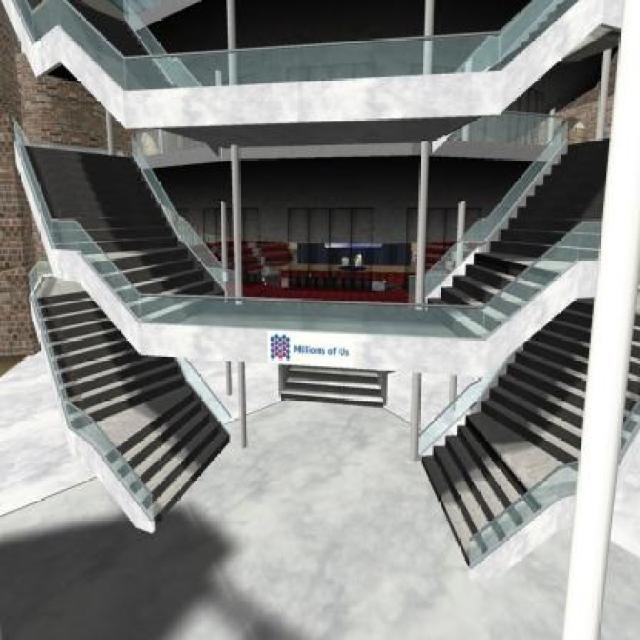stair: (420, 300, 640, 574), (32, 297, 231, 534), (14, 142, 226, 326), (426, 140, 611, 345), (484, 0, 582, 74), (282, 362, 383, 409)
